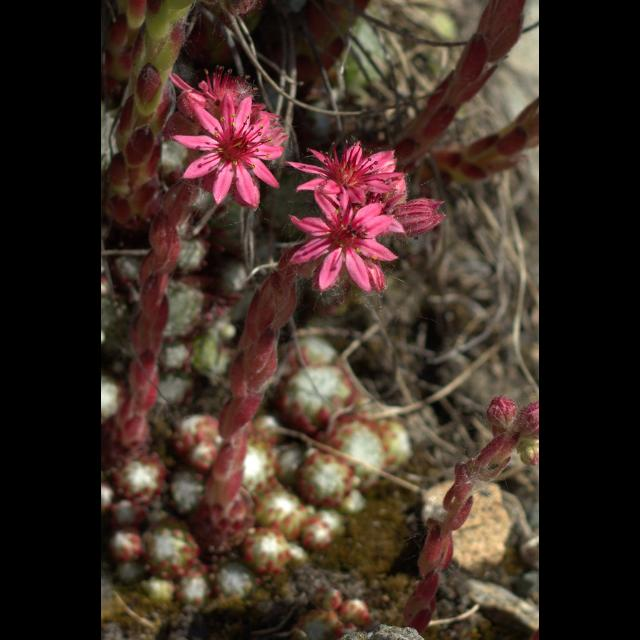Flower: (175, 77, 289, 205), (286, 184, 404, 292), (281, 137, 409, 209), (379, 190, 443, 238)
